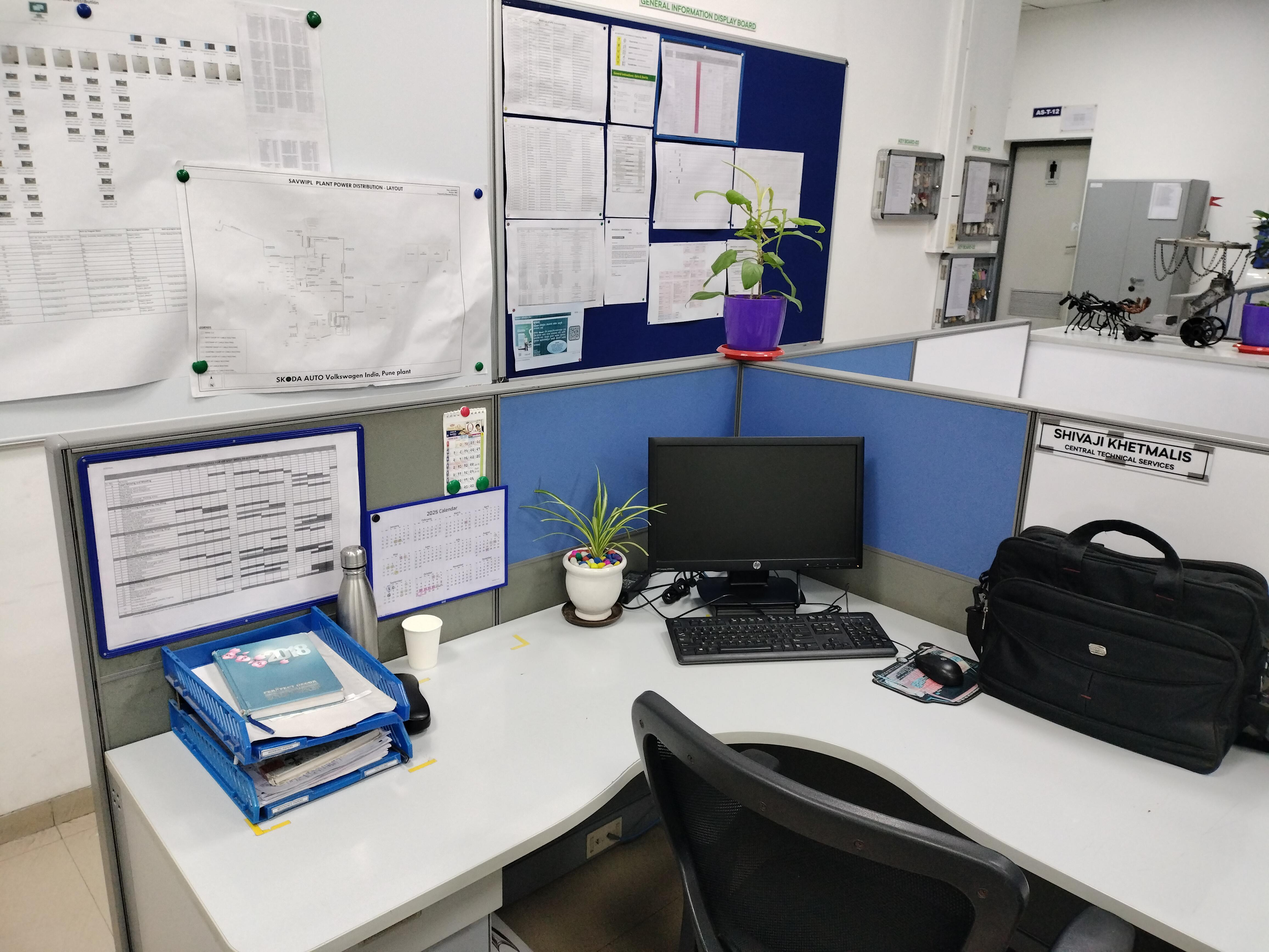bag: (959, 508, 1269, 769)
book: (220, 634, 346, 720)
bottle: (336, 540, 381, 666)
calender: (440, 403, 489, 499)
desktop: (643, 432, 874, 608)
filetray: (167, 605, 417, 820)
keyboard: (662, 608, 900, 667)
mouse: (912, 649, 968, 693)
mug: (398, 610, 443, 674)
nameplate: (1022, 405, 1226, 492)
page: (81, 432, 345, 615), (366, 491, 509, 612)
vase: (560, 541, 629, 632), (712, 289, 790, 366)
